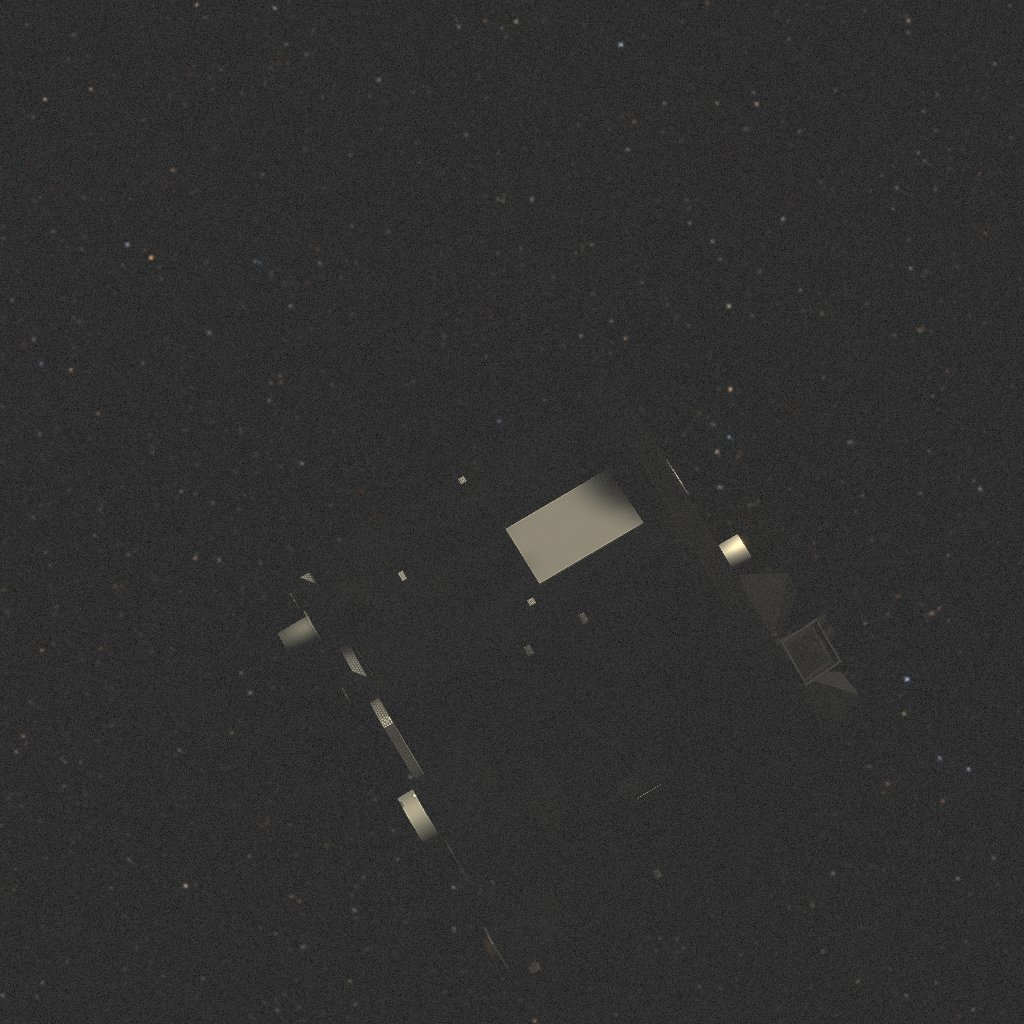proba_3_ocs: (278, 375, 859, 977)
